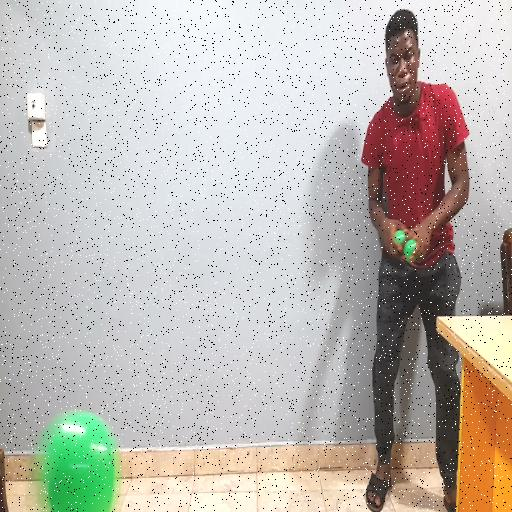plastic-ball: (38, 411, 119, 511)
